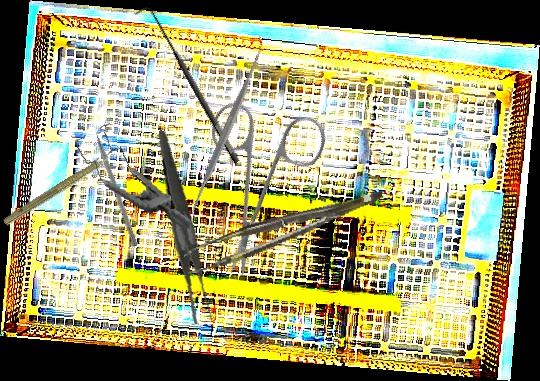Dressing Forceps: (139, 130, 232, 326)
Handpiece: (1, 145, 125, 231)
Hook Surgical: (134, 2, 242, 171)
Iris Scissors: (153, 68, 367, 280)
Pusher: (88, 116, 140, 247)
Spatula Surgical: (181, 42, 272, 222)
Speculum: (62, 117, 207, 230)
Tissue Forceps: (180, 190, 390, 275)
